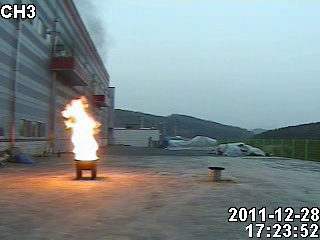fire: (60, 96, 102, 160)
